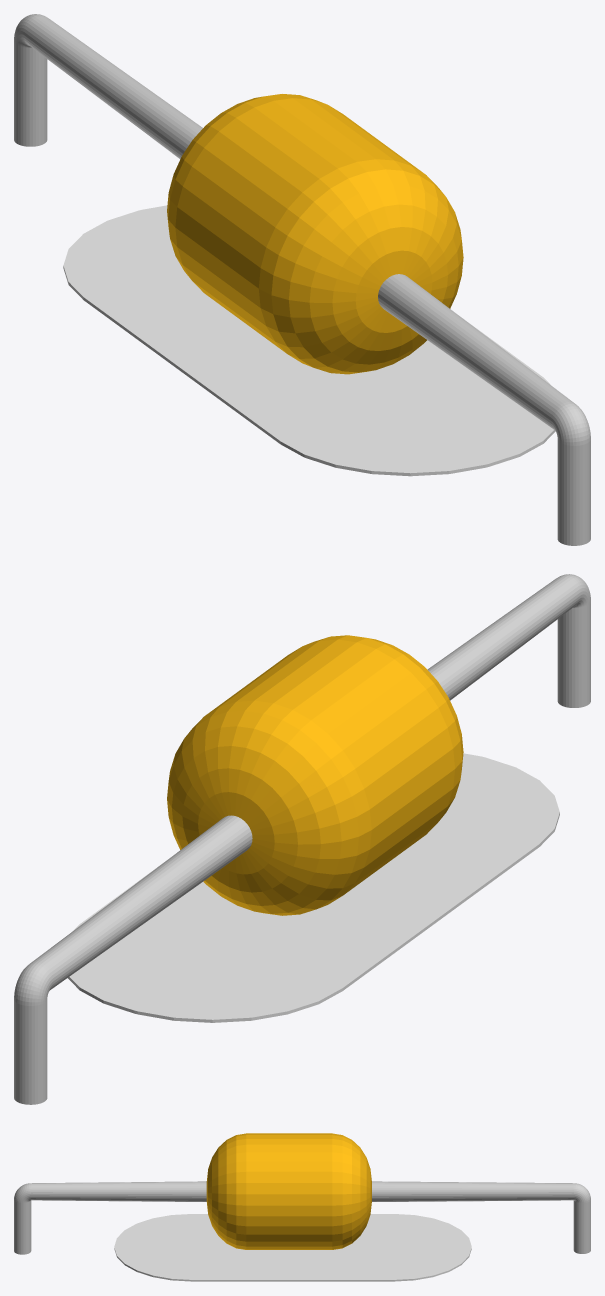
3 views of the same model, one above another, from view 1: azimuth 30°, elevation 25°; view 2: azimuth 150°, elevation 25°; view 3: azimuth 270°, elevation 25° (orthographic). The views are drawn at different scales.
Visible parts, largest first — view 1: Y_1, Y_1_plane; view 2: Y_1, Y_1_plane; view 3: Y_1, Y_1_plane.
Part boxes in pixels (x1,y1,x2,y2): Y_1: [14, 14, 590, 545]; Y_1_plane: [63, 205, 555, 476]; Y_1: [14, 574, 590, 1104]; Y_1_plane: [68, 753, 559, 1022]; Y_1: [14, 1133, 590, 1254]; Y_1_plane: [114, 1214, 471, 1281].
Bounding box in the file's own units: 0.018 × 0.0143 × 0.0666.
